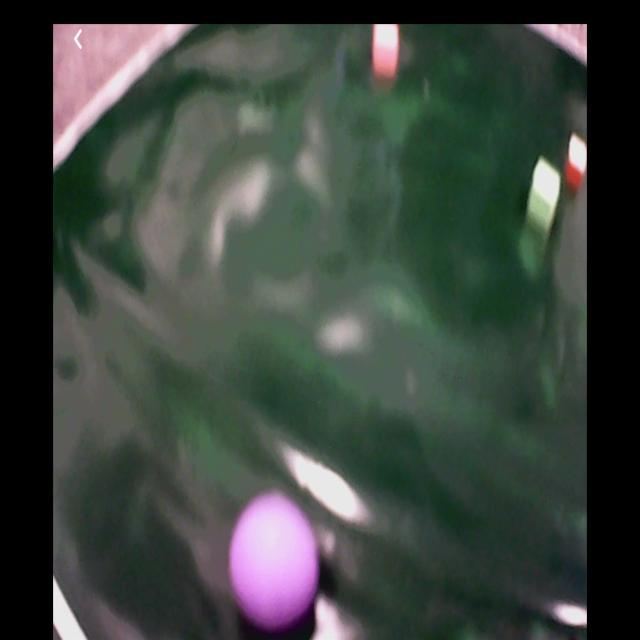ball: (230, 492, 322, 634)
